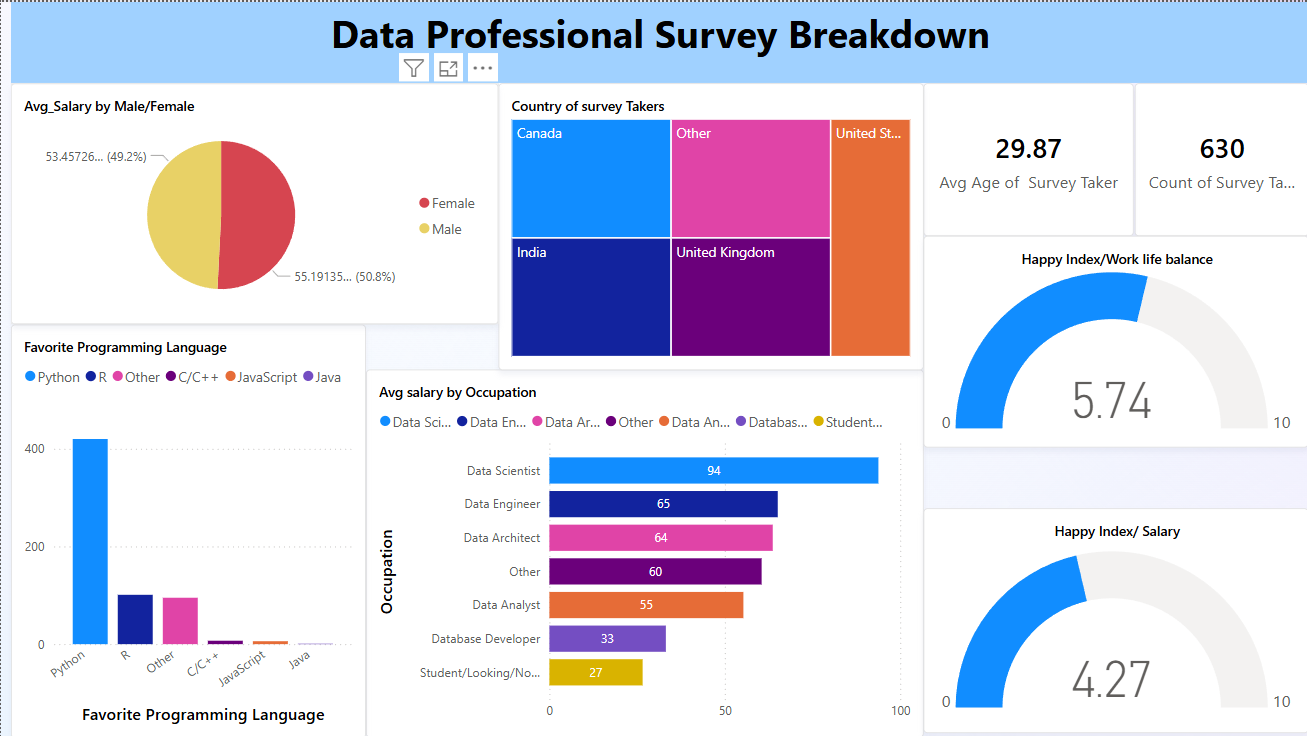

Layout of this report page (visuals, bound fields, positions):
{"tool":"powerbi","page":{"name":"Page 1","canvas":[1280,720],"ordinal":0},"visuals":[{"type":"textbox","box":[9.6,0,1270.7,79.6],"z":0},{"type":"card","fields":{"Values":["CountNonNull(Data Professional Survey.Unique ID)"]},"box":[1108.9,79.2,171.4,149.8],"z":1000},{"type":"card","fields":{"Values":["Avg(Data Professional Survey.Q10 - Current Age)"]},"box":[903,79.2,205.9,149.8],"z":2000},{"type":"barChart","title":"Avg salary by Occupation","fields":{"Category":["Data Professional Survey.Q1 - Which Title Best Fits your Current Role?.1"],"Y":["Avg(Data Professional Survey.Avg_salary)"],"Series":["Data Professional Survey.Q1 - Which Title Best Fits your Current Role?.1"]},"box":[357.2,360,545.8,360],"z":3000},{"type":"columnChart","title":"Favorite Programming Language","fields":{"Category":["Data Professional Survey.Q5 - Favorite Programming Language.1","Data Professional Survey.Q1 - Which Title Best Fits your Current Role?.1"],"Y":["CountNonNull(Data Professional Survey.Unique ID)"],"Series":["Data Professional Survey.Q5 - Favorite Programming Language.1"]},"box":[10.1,315.4,347.1,404.7],"z":4000},{"type":"treemap","title":"Country of survey Takers","fields":{"Group":["Data Professional Survey.Q11 - Which Country do you live in?.1"],"Values":["Count(Data Professional Survey.Q11 - Which Country do you live in?.1)"]},"box":[486.8,79.2,416.2,280.8],"z":5000},{"type":"gauge","title":"Happy Index/Work life balance","fields":{"Y":["Avg(Data Professional Survey.Q6 - How Happy are you in your Current Position with the following? (Work/Life Balance))"],"MinValue":["Min(Data Professional Survey.Q6 - How Happy are you in your Current Position with the following? (Work/Life Balance))"],"MaxValue":["Max(Data Professional Survey.Q6 - How Happy are you in your Current Position with the following? (Work/Life Balance))"]},"box":[903,229,377.3,207.4],"z":7000},{"type":"gauge","title":"Happy Index/ Salary","fields":{"Y":["Avg(Data Professional Survey.Q6 - How Happy are you in your Current Position with the following? (Salary))"],"MinValue":["Min(Data Professional Survey.Q6 - How Happy are you in your Current Position with the following? (Salary))1"],"MaxValue":["Max(Data Professional Survey.Q6 - How Happy are you in your Current Position with the following? (Salary))2"]},"box":[903,495.4,377.3,220.3],"z":7001},{"type":"pieChart","title":"Avg_Salary by Male/Female","fields":{"Category":["Data Professional Survey.Q9 - Male/Female?"],"Y":["Avg(Data Professional Survey.Avg_salary)"]},"box":[10.1,79.2,476.7,236.2],"z":7002}]}

Visuals, with their boxes in screenshot pixels (x1, y1, x2, y2), scaled from the page's 1280x720 canvas onto the 1307x736 screenshot:
textbox: [10,0,1306,81]
card - CountNonNull(Data Professional Survey.Unique ID): [1132,81,1306,234]
card - Avg(Data Professional Survey.Q10 - Current Age): [922,81,1132,234]
"Avg salary by Occupation" barChart: [365,368,922,735]
"Favorite Programming Language" columnChart: [10,322,365,735]
"Country of survey Takers" treemap: [497,81,922,368]
"Happy Index/Work life balance" gauge: [922,234,1306,446]
"Happy Index/ Salary" gauge: [922,506,1306,732]
"Avg_Salary by Male/Female" pieChart: [10,81,497,322]
